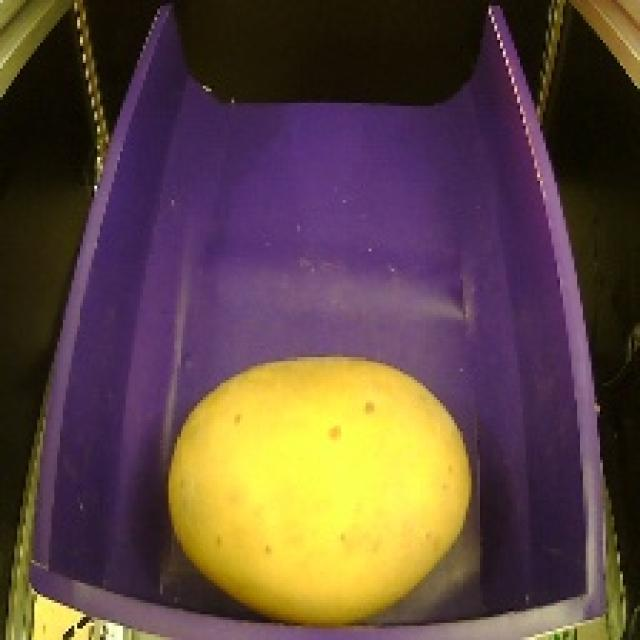full_potato: (146, 344, 486, 634)
